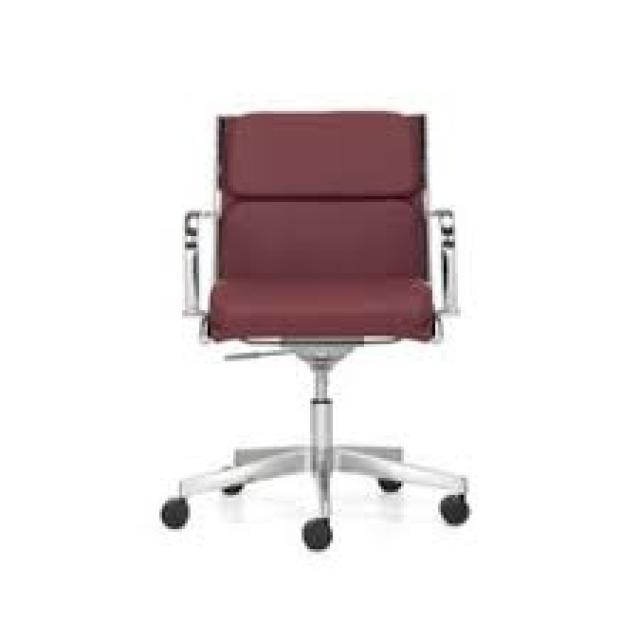chair: (66, 62, 568, 640)
